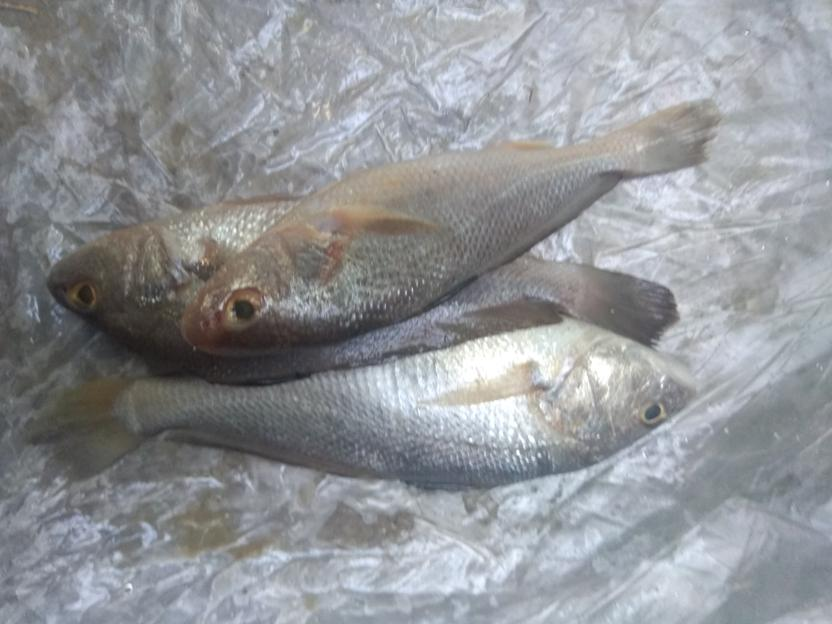Fish head: (555, 335, 698, 468), (46, 214, 186, 342), (182, 233, 309, 356)
Fish tail: (27, 372, 143, 478), (573, 261, 683, 351), (629, 97, 723, 179)
